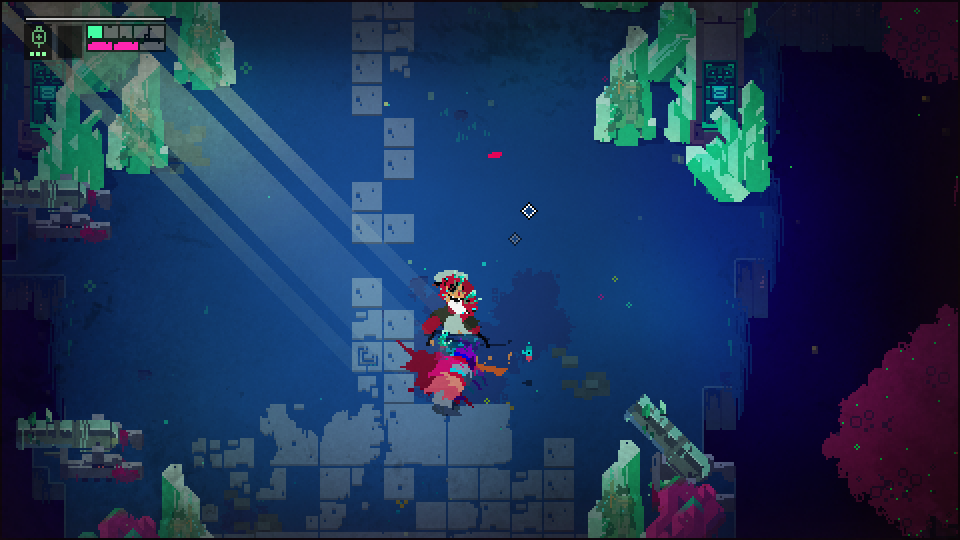hanged_man: (428, 276, 485, 354)
player: (426, 370, 469, 409)
